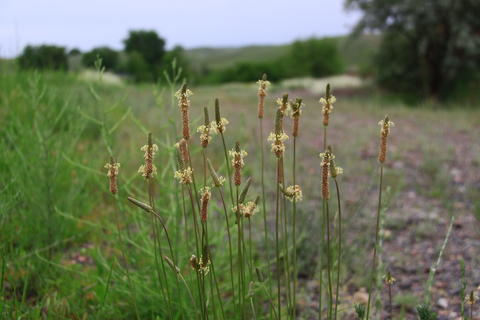buckhorn plantain: (86, 74, 406, 320)
